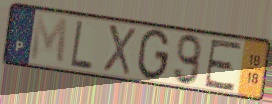9: (173, 32, 203, 87)
E: (202, 38, 244, 93)
G: (135, 27, 172, 82)
L: (69, 18, 94, 72)
M: (28, 12, 70, 67)
X: (101, 22, 138, 78)
